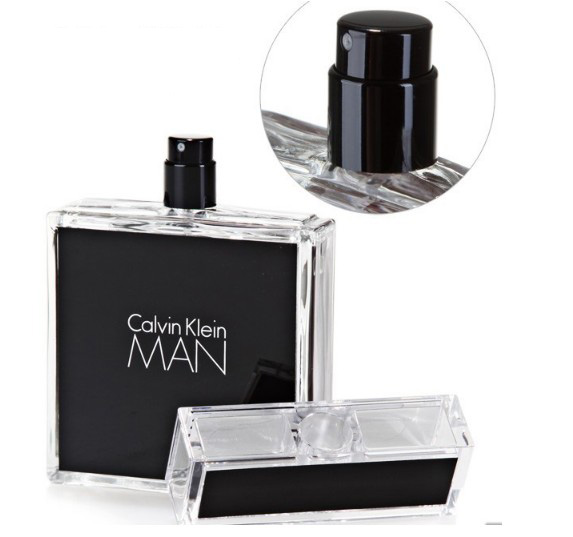Calvin Klein: (116, 305, 235, 343)
